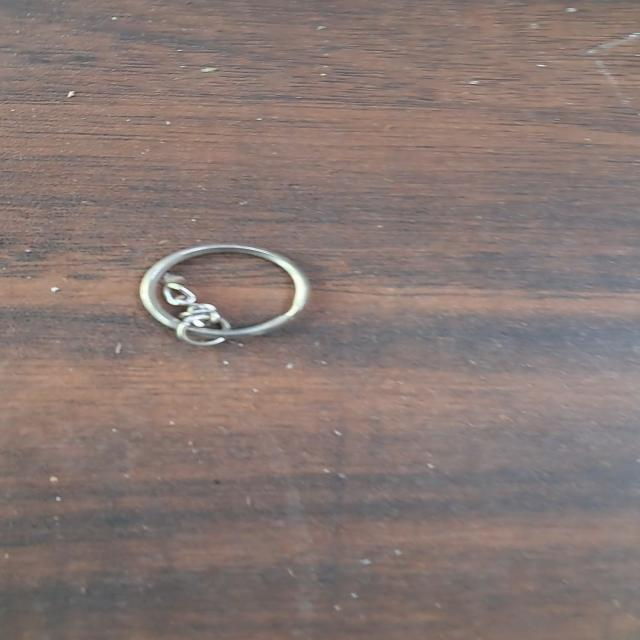Anorganik: (124, 230, 344, 352)
